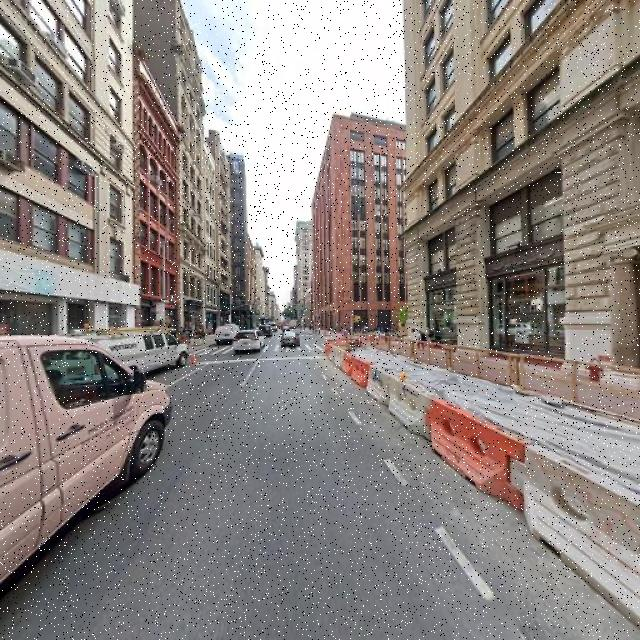Building: (408, 1, 640, 395), (1, 1, 132, 377), (137, 59, 177, 348)
